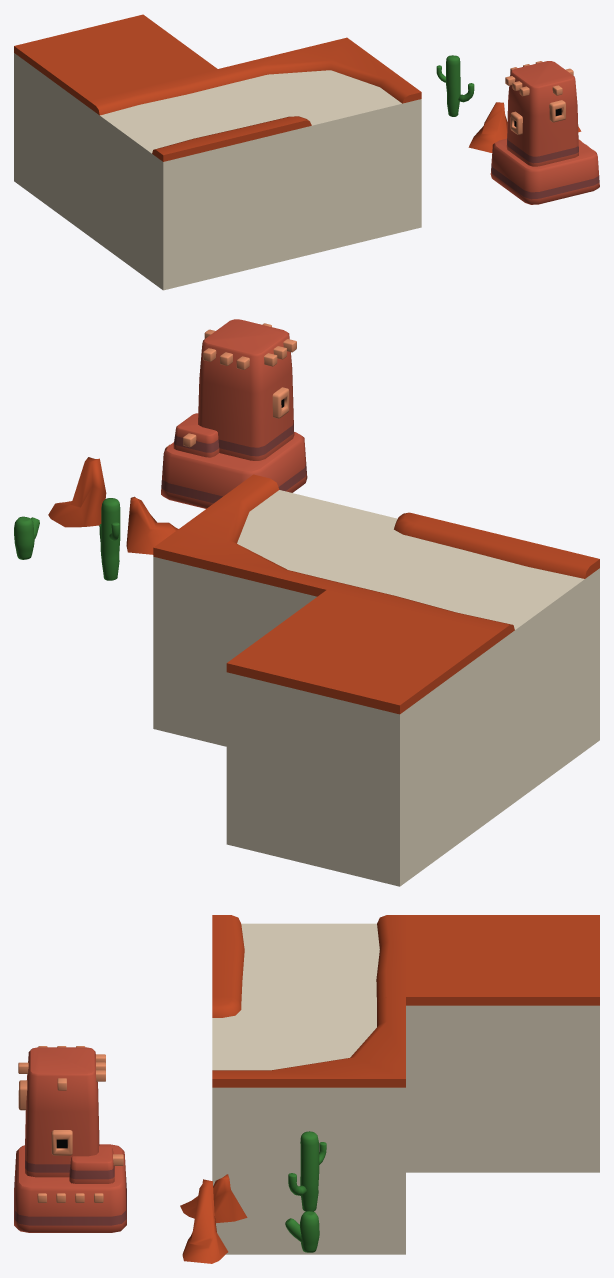
The model's file is Desert_Assets.fbx.
The picture shows the model from 3 angles, top to bottom: view 1: azimuth 30°, elevation 25°; view 2: azimuth 150°, elevation 25°; view 3: azimuth 270°, elevation 25°; orthographic projection. The views are drawn at different scales.
Visible parts, largest first — view 1: Desert Tile Path, Desert Tile Corner, Desert Tile, Tower, Trunk_Tall, Rock T (1); view 2: Desert Tile, Desert Tile Corner, Desert Tile Path, Tower, Rock T (2), Rock T (1), Trunk_Tall, Trunk_Small; view 3: Desert Tile, Desert Tile Corner, Tower, Desert Tile Path, Rock T (2), Trunk_Tall, Rock T (1), Trunk_Small.
Boxes of the visible parts, bbox=[...] form: Desert Tile Path: bbox=[88, 69, 292, 290]; Desert Tile Corner: bbox=[218, 37, 421, 258]; Desert Tile: bbox=[14, 14, 217, 235]; Tower: bbox=[490, 61, 599, 204]; Trunk_Tall: bbox=[436, 55, 474, 116]; Rock T (1): bbox=[468, 102, 507, 152]; Desert Tile: bbox=[226, 590, 499, 886]; Desert Tile Corner: bbox=[153, 474, 426, 746]; Desert Tile Path: bbox=[327, 517, 599, 812]; Tower: bbox=[161, 319, 307, 508]; Rock T (2): bbox=[48, 457, 106, 527]; Rock T (1): bbox=[126, 496, 178, 554]; Trunk_Tall: bbox=[99, 498, 120, 580]; Trunk_Small: bbox=[14, 516, 39, 559]; Desert Tile: bbox=[406, 915, 599, 1172]; Desert Tile Corner: bbox=[212, 997, 405, 1254]; Tower: bbox=[14, 1046, 126, 1232]; Desert Tile Path: bbox=[212, 915, 405, 1005]; Rock T (2): bbox=[182, 1179, 228, 1263]; Trunk_Tall: bbox=[288, 1131, 326, 1211]; Rock T (1): bbox=[180, 1174, 247, 1222]; Trunk_Small: bbox=[285, 1211, 319, 1252].
Bounding box in the file's own units: 637 × 267 × 604.
